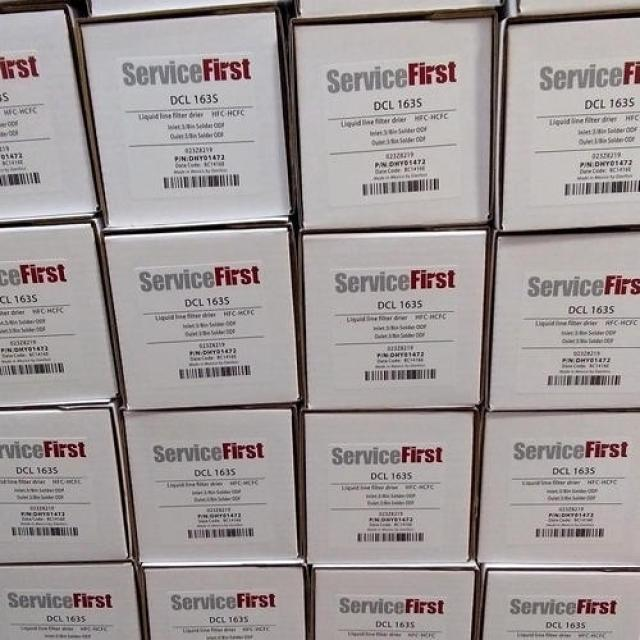box: (78, 10, 296, 227), (290, 13, 504, 232), (104, 223, 301, 408), (296, 227, 493, 412), (495, 12, 639, 232), (484, 232, 639, 412), (128, 408, 304, 565), (297, 412, 481, 560), (468, 411, 639, 563), (0, 216, 120, 411), (0, 4, 103, 224), (1, 400, 133, 566), (306, 558, 481, 637), (472, 557, 639, 638), (136, 562, 310, 637), (1, 560, 143, 638), (295, 2, 504, 20), (86, 1, 280, 17), (506, 0, 639, 16)
